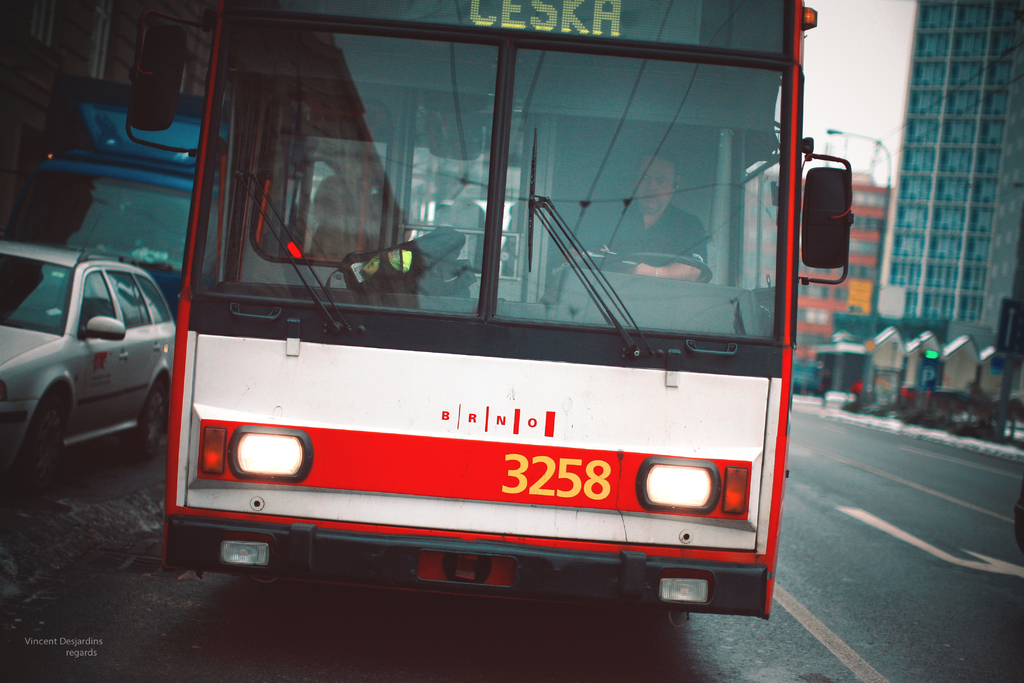Bus: (122, 0, 855, 623)
